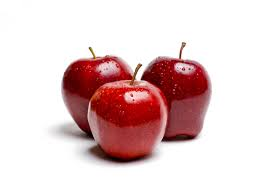apple: (143, 57, 214, 142), (62, 58, 137, 134), (88, 87, 166, 156)
